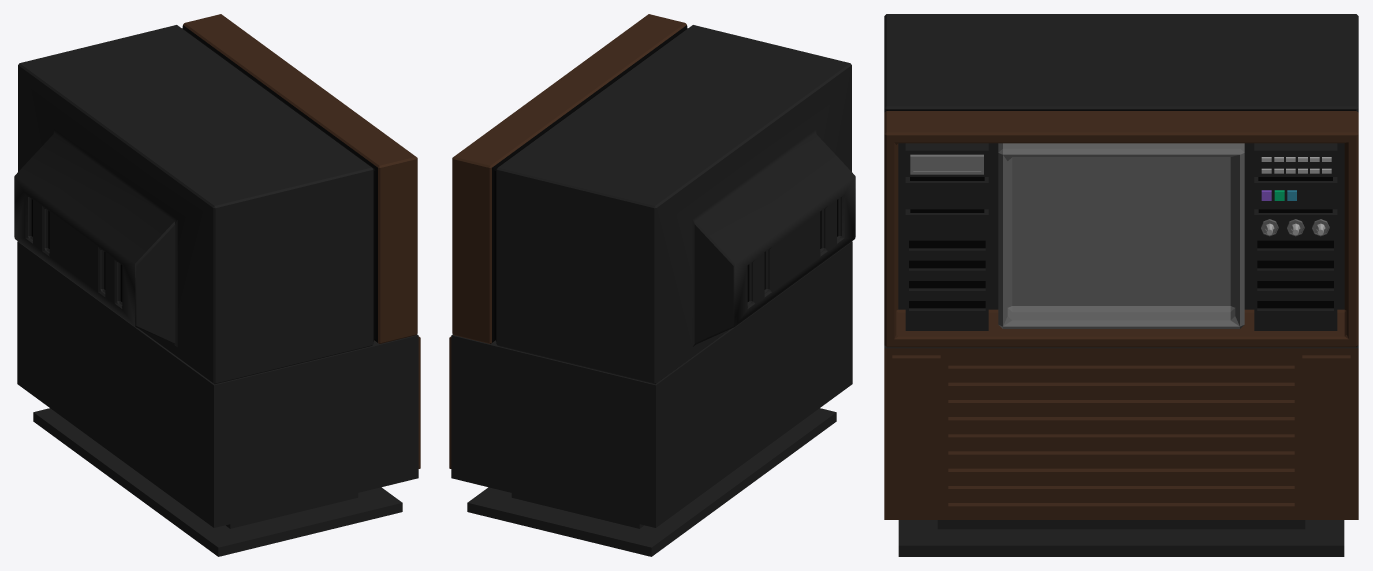
Rendered from tv-crt-09.lod.glb.
3 views of the same model, side by side, from view 1: azimuth 30°, elevation 25°; view 2: azimuth 150°, elevation 25°; view 3: azimuth 270°, elevation 25° (orthographic). The views are drawn at different scales.
Visible parts, largest first — view 1: Mesh_TV_CRT_09; view 2: Mesh_TV_CRT_09; view 3: Mesh_TV_CRT_09.
Part boxes in pixels (bbox=[...]): Mesh_TV_CRT_09: bbox=[14, 14, 420, 556]; Mesh_TV_CRT_09: bbox=[449, 14, 855, 556]; Mesh_TV_CRT_09: bbox=[884, 14, 1358, 556].
Size of the model in its own units: 0.7502 by 1 by 1.
Materials: 1 (1 with a texture image).
